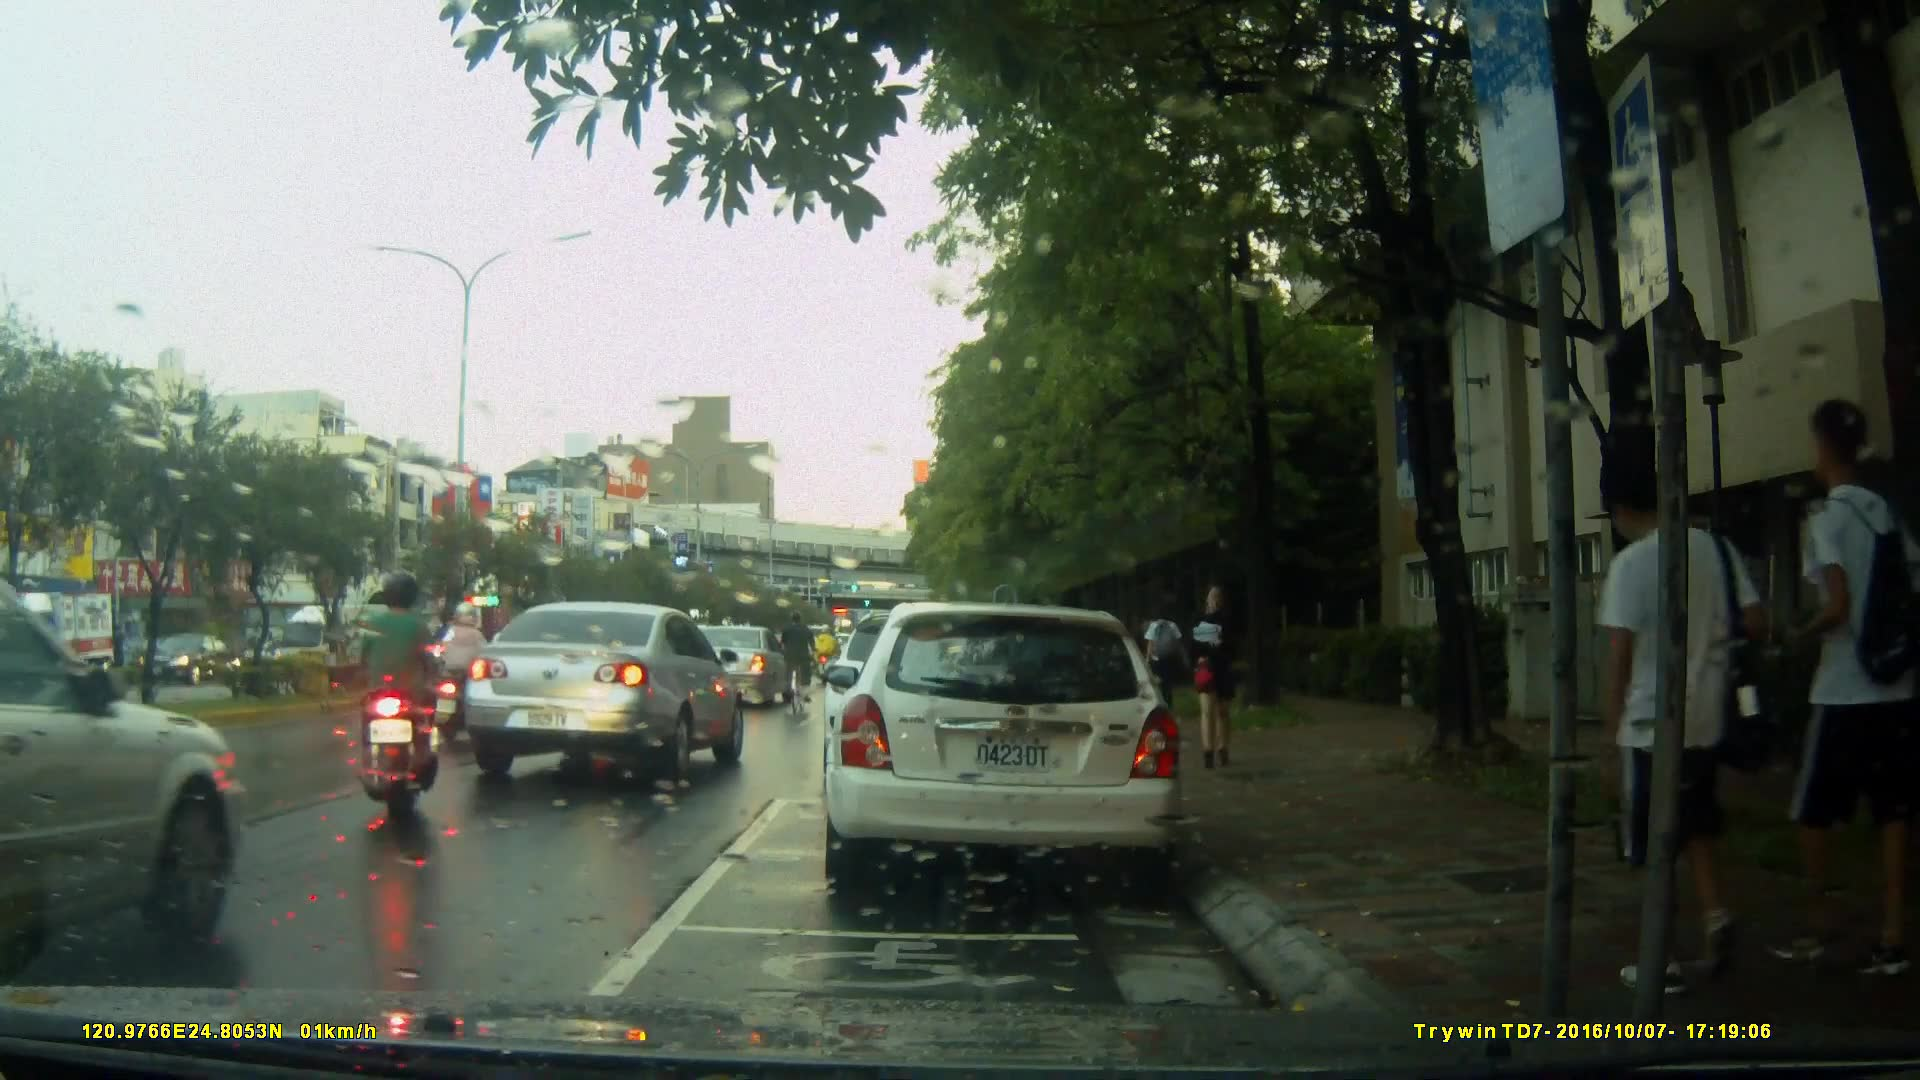pedestrian: (1574, 439, 1739, 993), (1755, 419, 1860, 964), (1174, 579, 1237, 771), (1145, 604, 1193, 732)
rider: (352, 573, 444, 830), (425, 594, 502, 743), (777, 612, 810, 719), (813, 621, 838, 692)
vehicle: (820, 602, 1188, 898), (1, 553, 252, 985), (458, 596, 749, 787), (665, 625, 796, 709)
